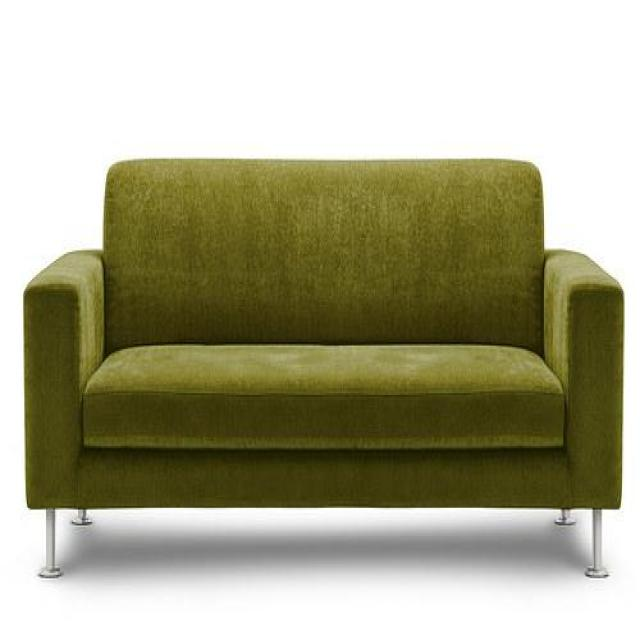sofa: (20, 152, 626, 578)
